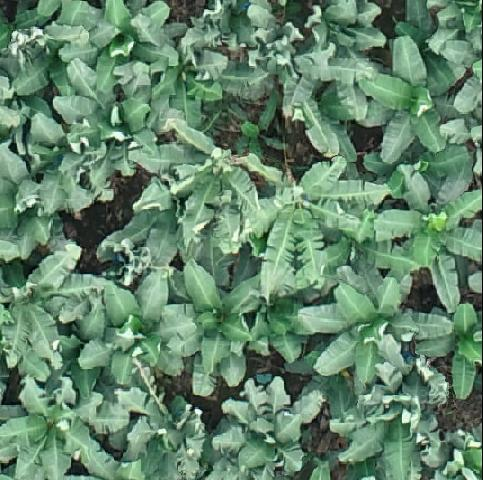Banana-plant: (240, 163, 379, 284), (144, 125, 276, 251), (284, 0, 383, 156), (58, 56, 172, 183), (381, 158, 483, 299), (306, 281, 449, 377), (170, 263, 268, 395), (364, 35, 464, 160), (338, 375, 446, 480), (4, 373, 105, 480), (0, 239, 79, 375), (90, 269, 181, 383), (217, 385, 331, 475), (65, 0, 185, 85), (429, 305, 483, 395)
